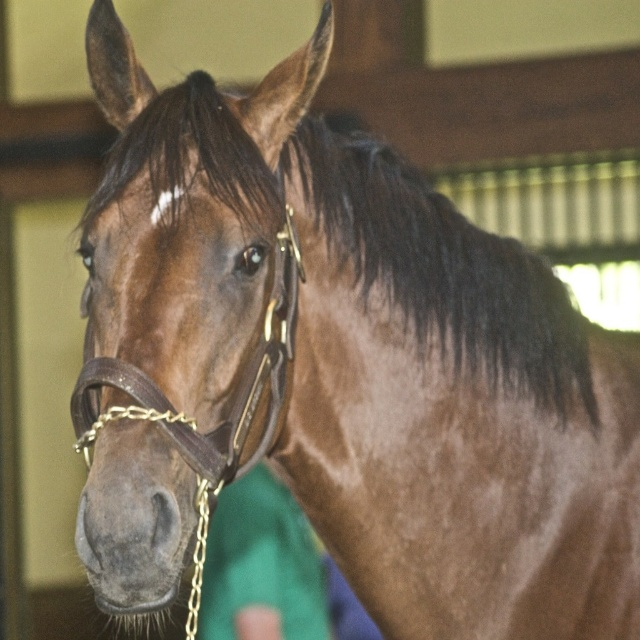Horse: (73, 0, 640, 640)
